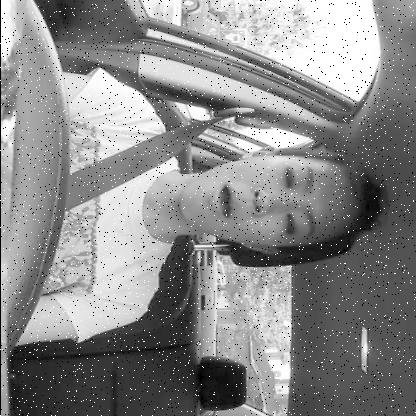seatbelt: (68, 94, 388, 276)
